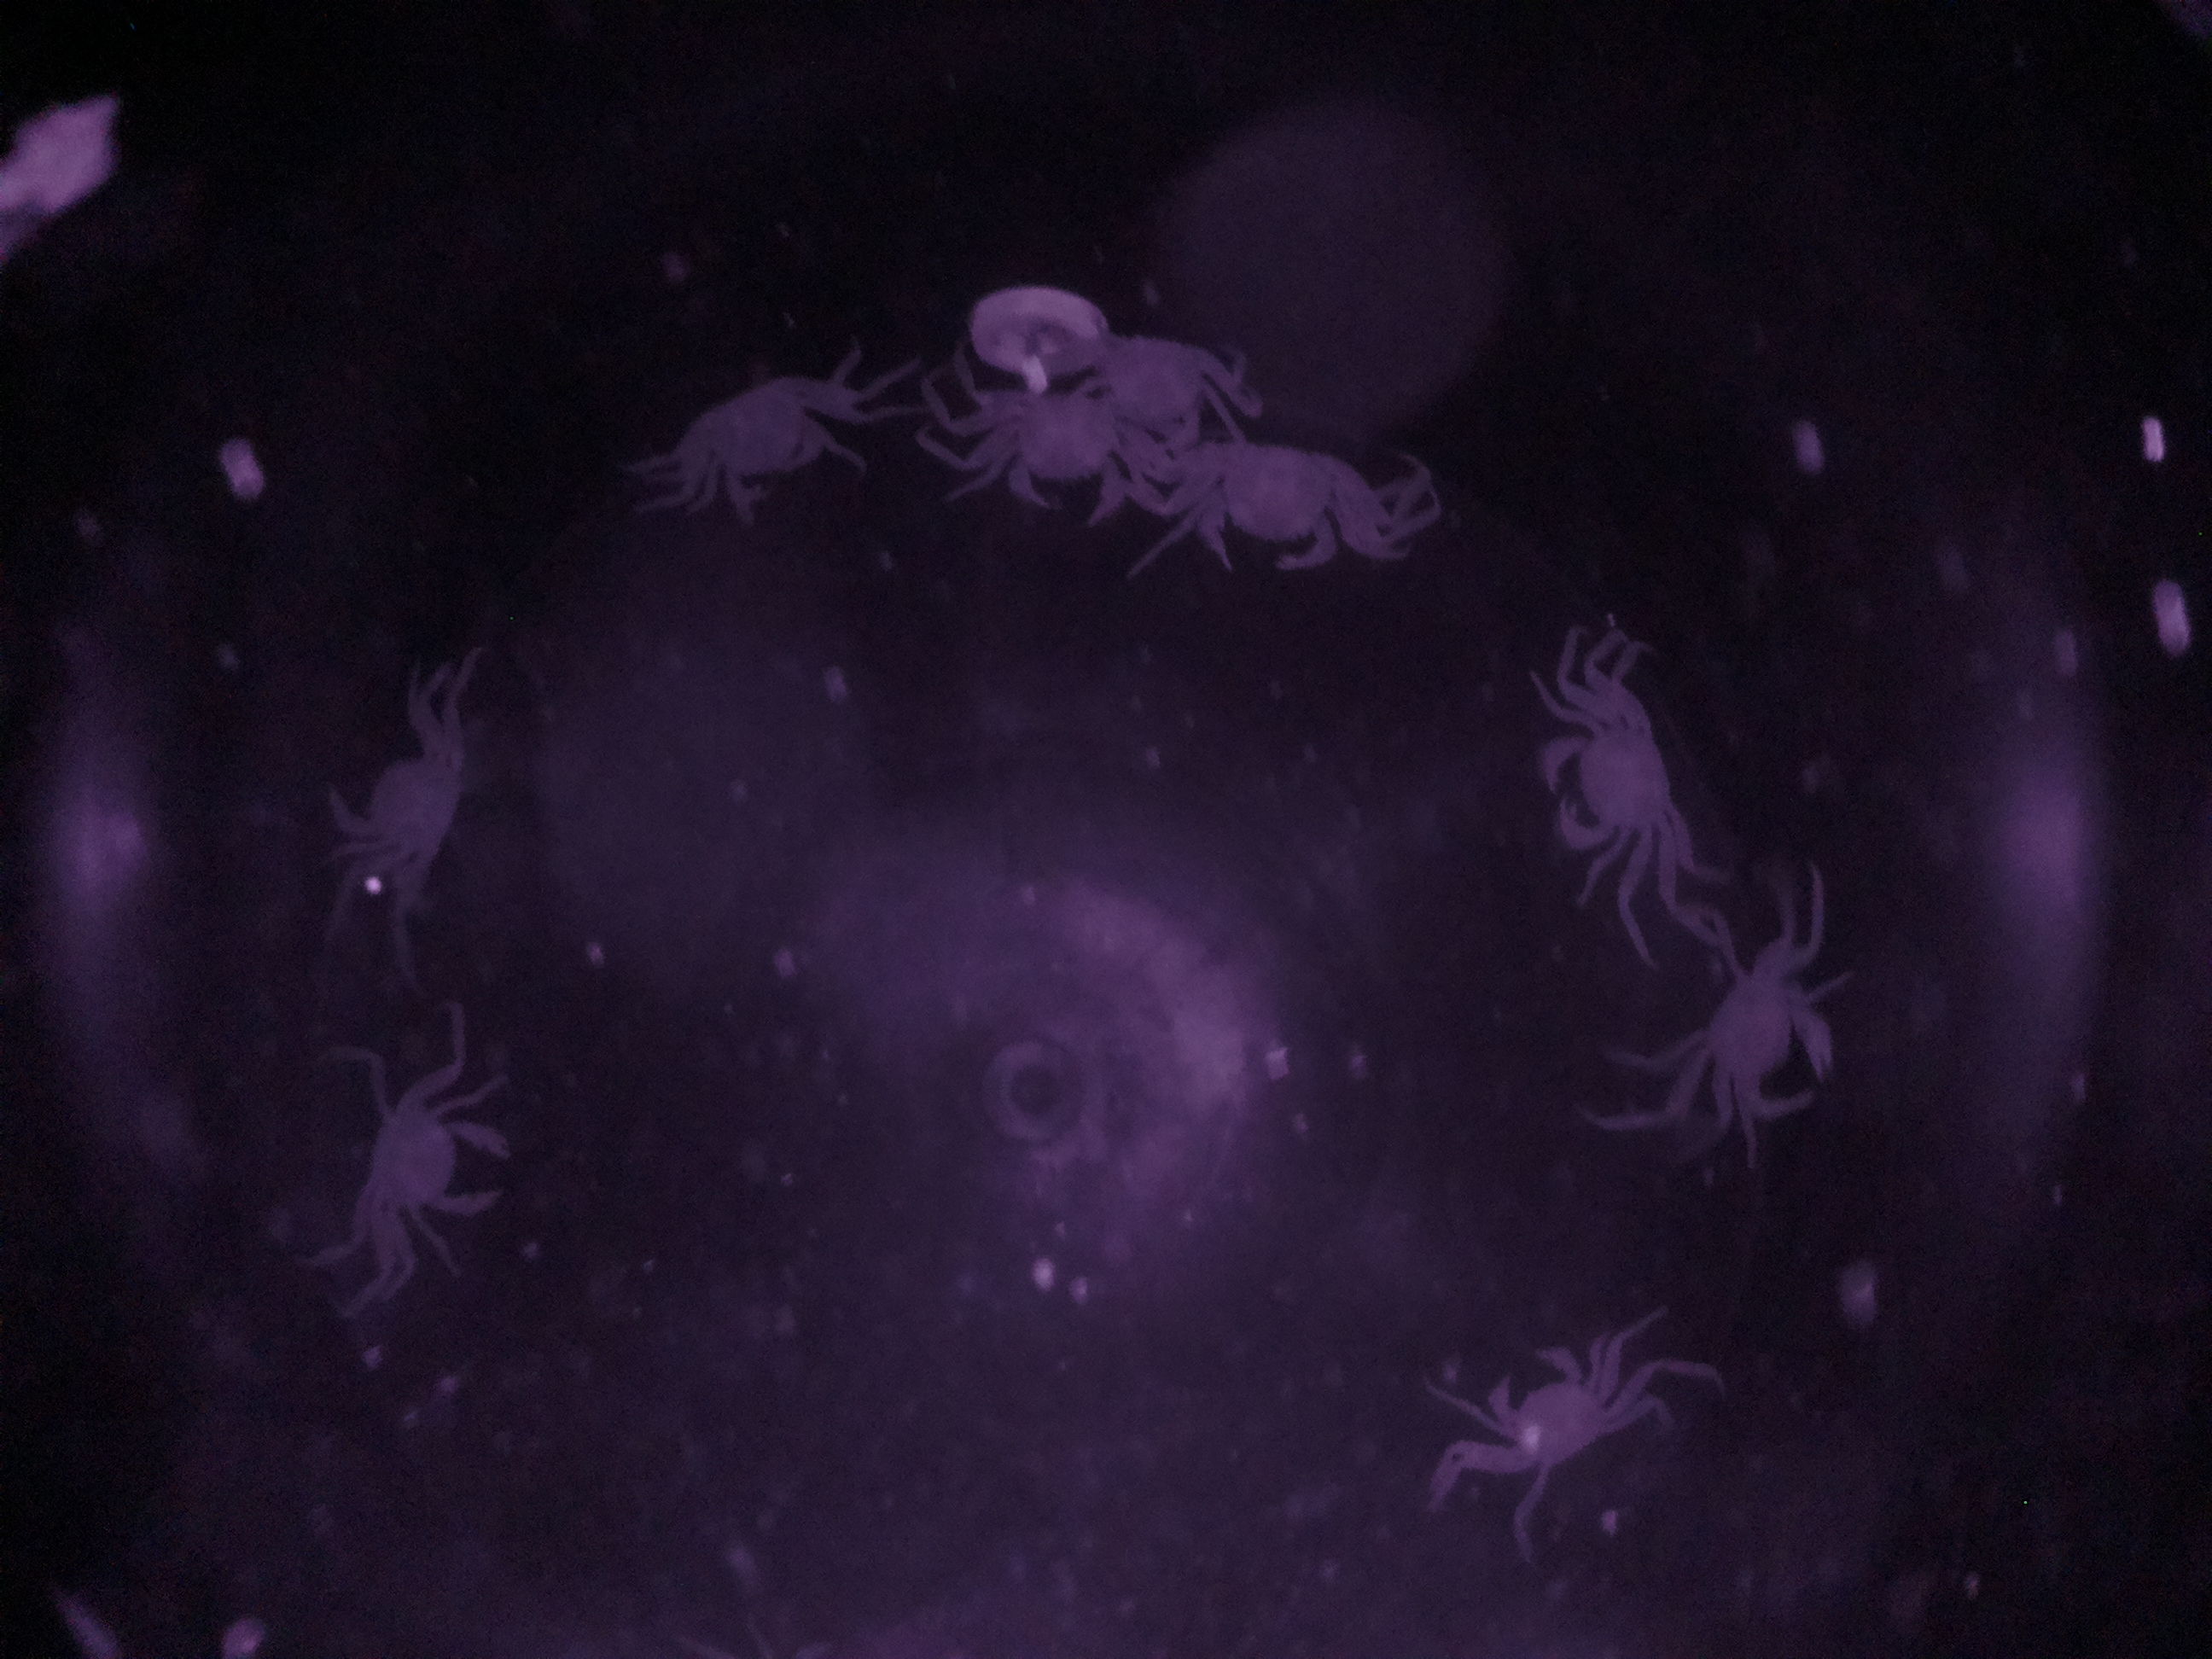Crab: (1531, 669, 1703, 906), (1679, 938, 1850, 1155), (334, 1072, 536, 1249), (1465, 1317, 1632, 1504)
